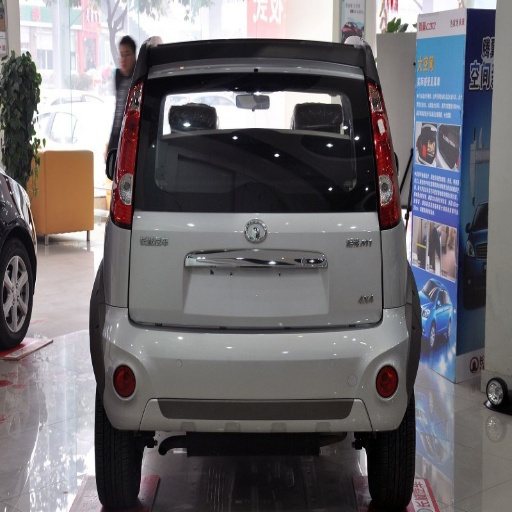back_bumper: (99, 225, 419, 433)
tailgate: (132, 123, 378, 321)
trunk: (111, 191, 211, 330), (297, 211, 380, 244)
